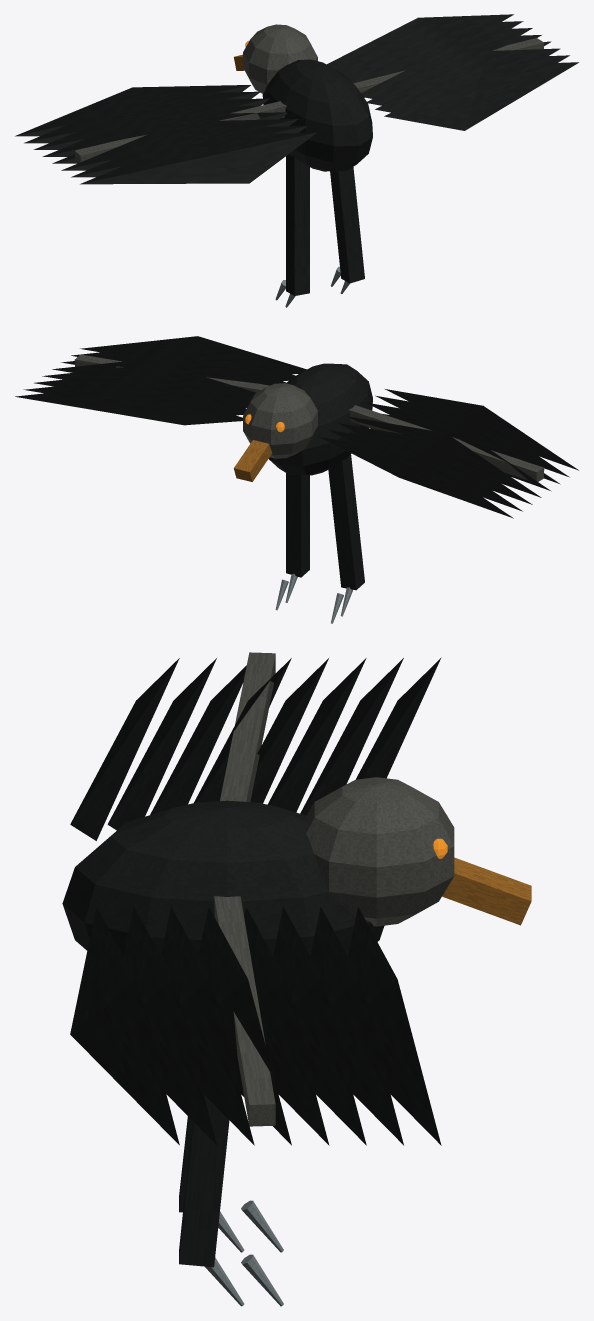
Rendered from SK_Boss_sturmkralle_silhouette.gltf.
3 views of the same model, one above another, from view 1: azimuth 30°, elevation 25°; view 2: azimuth 150°, elevation 25°; view 3: azimuth 270°, elevation 25° (orthographic). The views are drawn at different scales.
Parts seen in each view (by area): view 1: left_wing, right_wing, root; view 2: root, left_wing, right_wing; view 3: right_wing, root, left_wing.
Boxes of the visible parts, left/top/right/bottom form: left_wing: left=15, top=85, right=316, bottom=184; right_wing: left=327, top=14, right=578, bottom=130; root: left=234, top=24, right=372, bottom=307; root: left=233, top=363, right=372, bottom=623; left_wing: left=319, top=389, right=578, bottom=518; right_wing: left=15, top=336, right=306, bottom=425; right_wing: left=70, top=896, right=441, bottom=1145; root: left=62, top=777, right=531, bottom=1306; left_wing: left=70, top=652, right=441, bottom=840.
Bounding box in the file's own units: 5.26 × 2.49 × 2.13.
5 materials, 5 textured.
